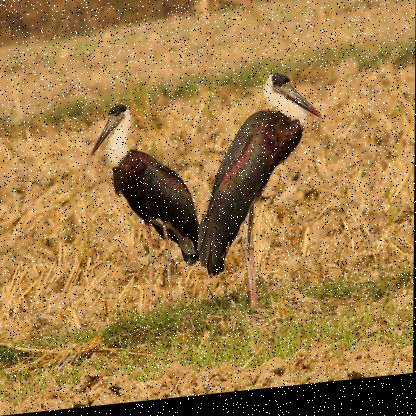Burung: (196, 76, 325, 322), (87, 98, 209, 321)
